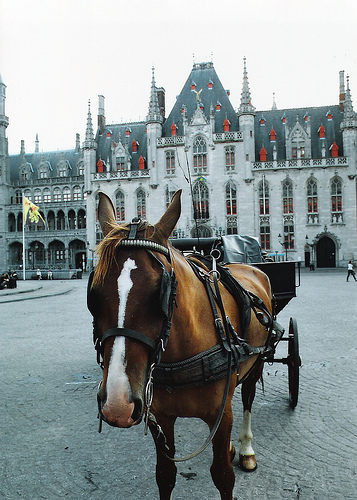horse: (86, 189, 277, 499)
